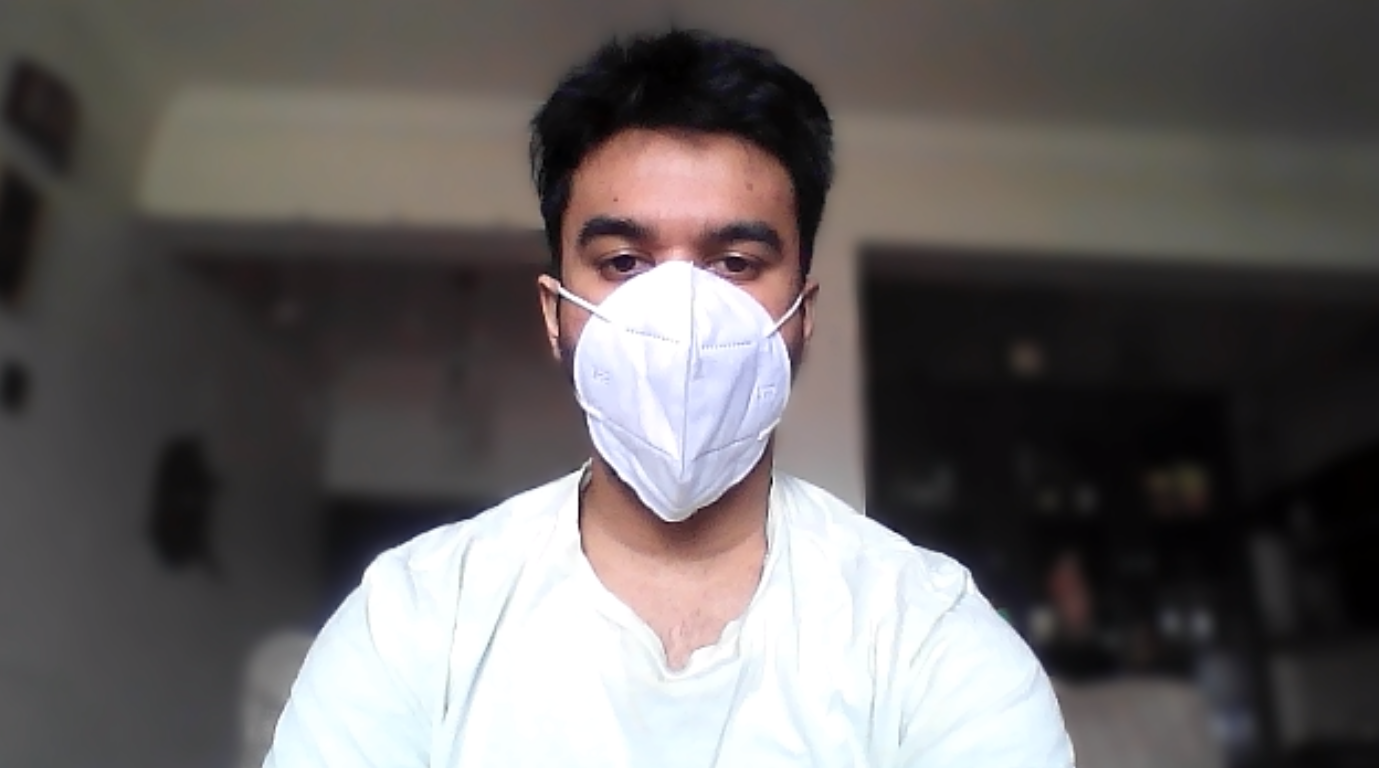Mask: (554, 273, 807, 519)
